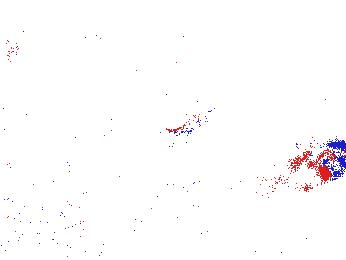X-ray fish: (282, 138, 346, 191)
red belly glassfish: (167, 106, 216, 137), (292, 138, 327, 151)
redtail glassfish: (3, 32, 24, 66)
